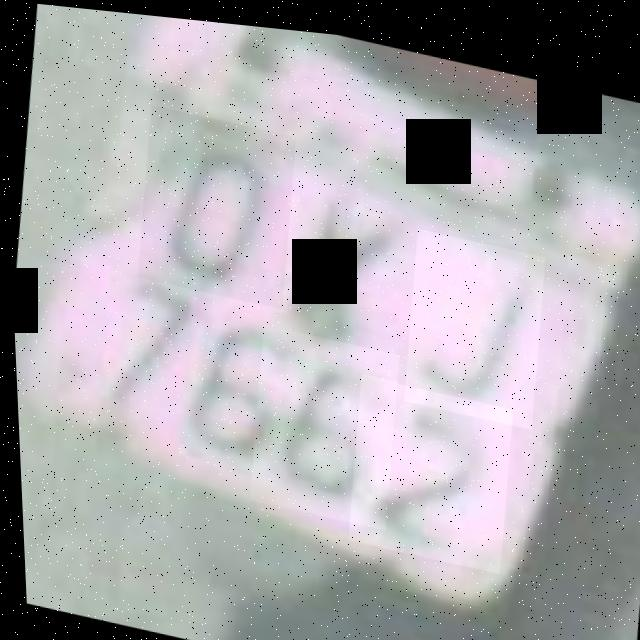2: (337, 366, 515, 565)
6: (148, 271, 310, 487), (238, 318, 402, 525)
7: (42, 230, 220, 456)
J: (394, 218, 549, 420)
O: (129, 100, 300, 305)
